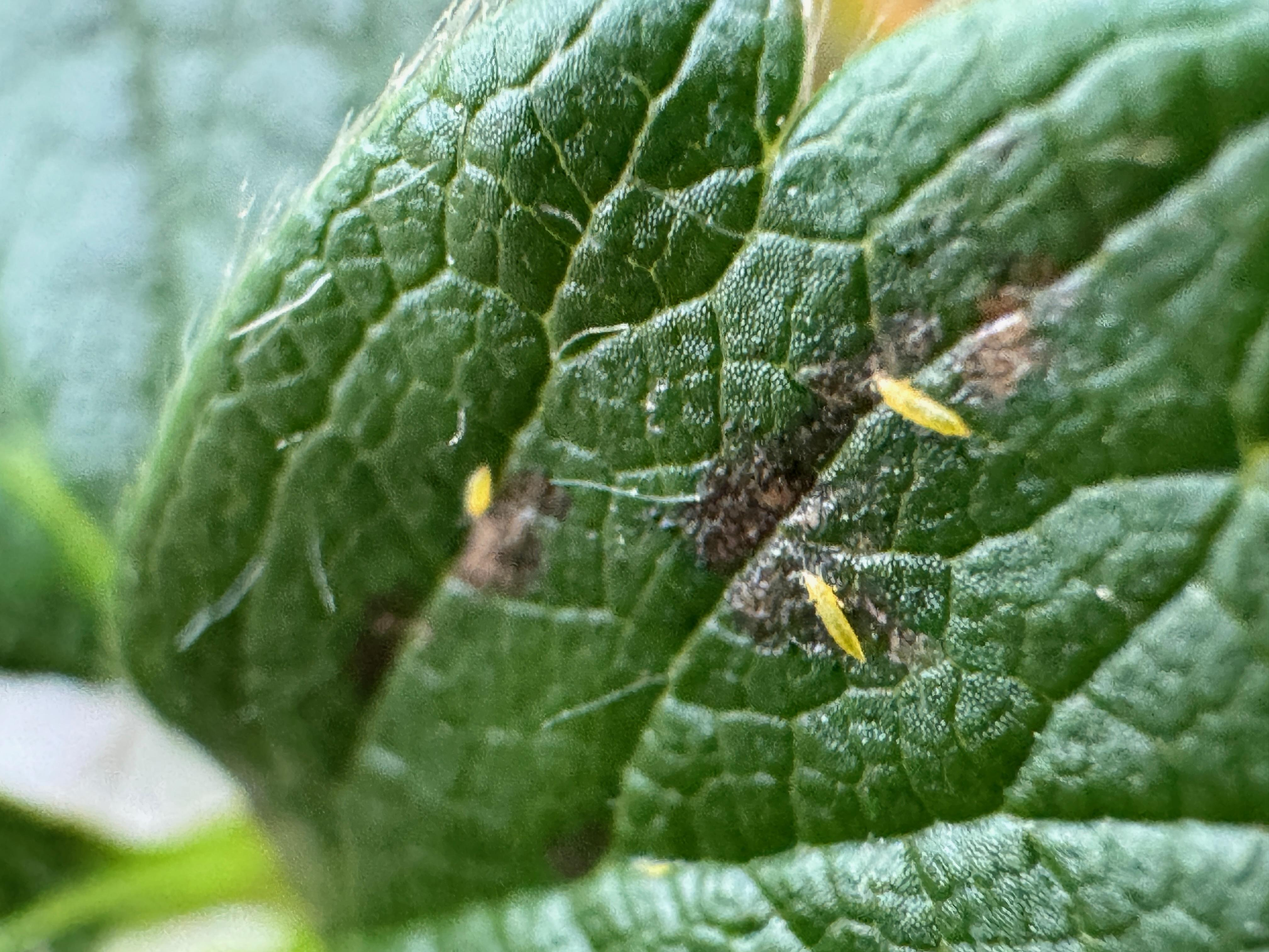tiny_pests: (842, 329, 993, 488), (774, 543, 894, 685)
